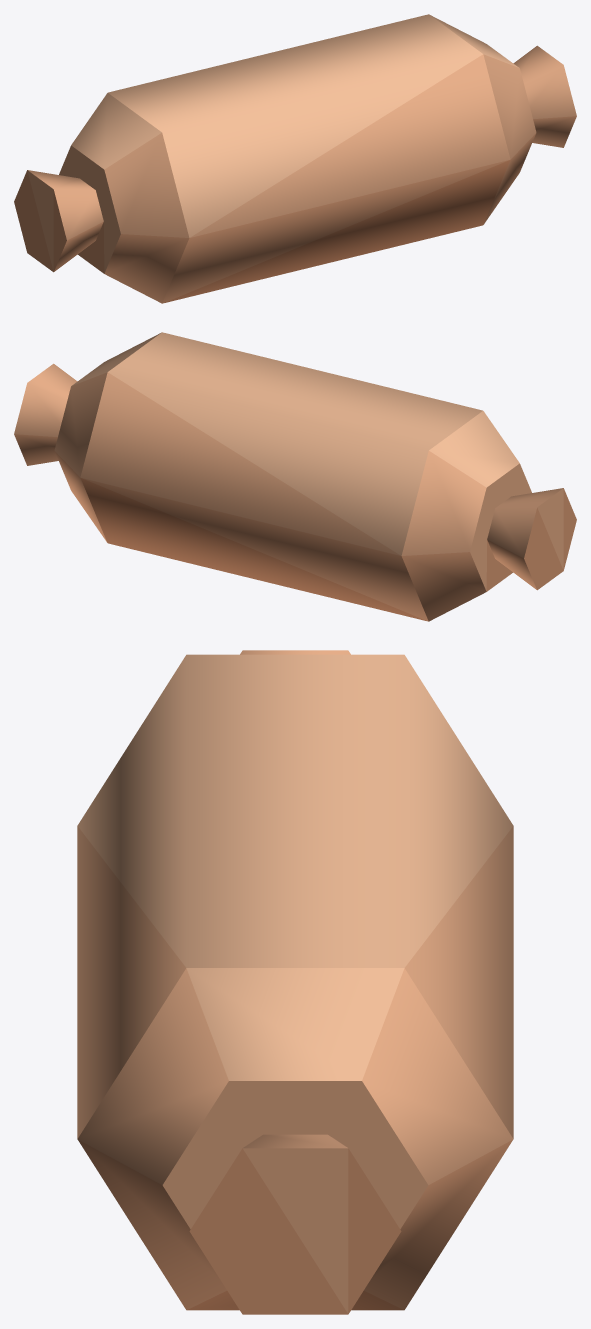
The model's file is linguica.glb.
The picture shows the model from 3 angles, top to bottom: view 1: azimuth 30°, elevation 25°; view 2: azimuth 150°, elevation 25°; view 3: azimuth 270°, elevation 25°; orthographic projection. The views are drawn at different scales.
Visible parts, largest first — view 1: sausage; view 2: sausage; view 3: sausage.
Part boxes in pixels (x1=…): sausage: x1=14, y1=14, x2=576, y2=303; sausage: x1=14, y1=332, x2=576, y2=621; sausage: x1=77, y1=650, x2=513, y2=1314.
Bounding box in the file's own units: 0.3707 × 0.1189 × 0.1372.
